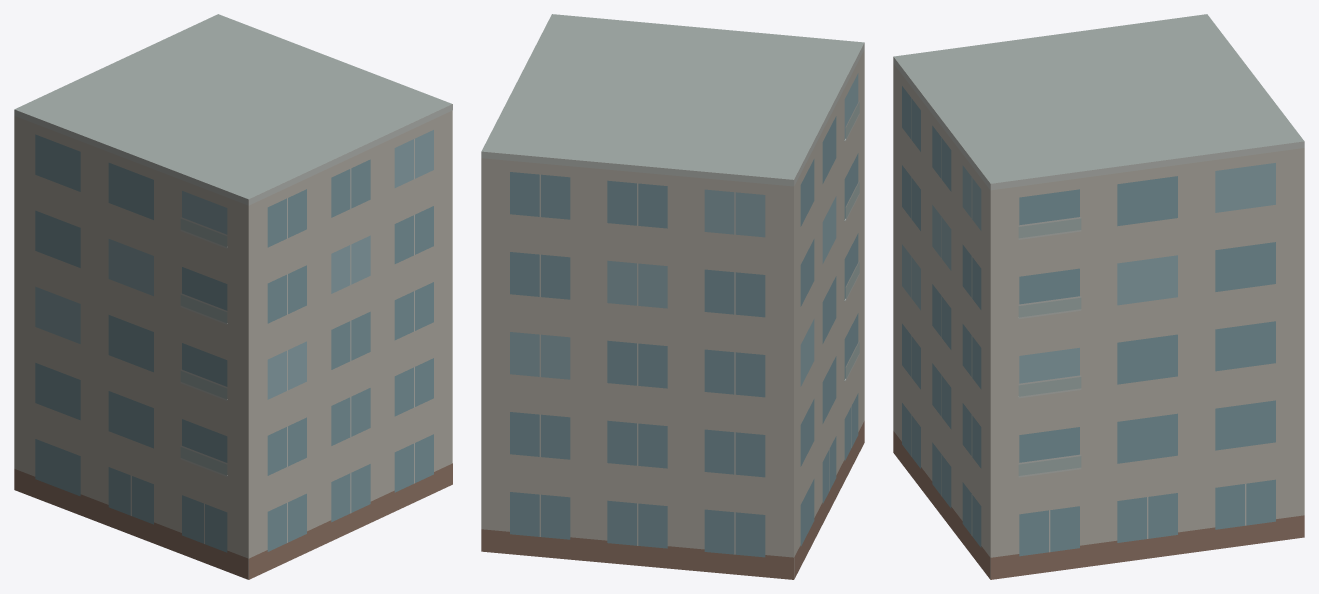
The model's file is survey-upis-32615535.glb.
The picture shows the model from 3 angles, left to right: view 1: azimuth 30°, elevation 25°; view 2: azimuth 150°, elevation 25°; view 3: azimuth 270°, elevation 25°; orthographic projection. The views are drawn at different scales.
Visible parts, largest first — view 1: survey-upis-32615535.tmp; view 2: survey-upis-32615535.tmp; view 3: survey-upis-32615535.tmp.
Boxes of the visible parts, x1,y1,x2,y2 form: survey-upis-32615535.tmp: [14, 14, 452, 579]; survey-upis-32615535.tmp: [481, 14, 864, 579]; survey-upis-32615535.tmp: [893, 14, 1304, 579].
Bounding box in the file's own units: 13.53 × 14.7 × 13.84.
